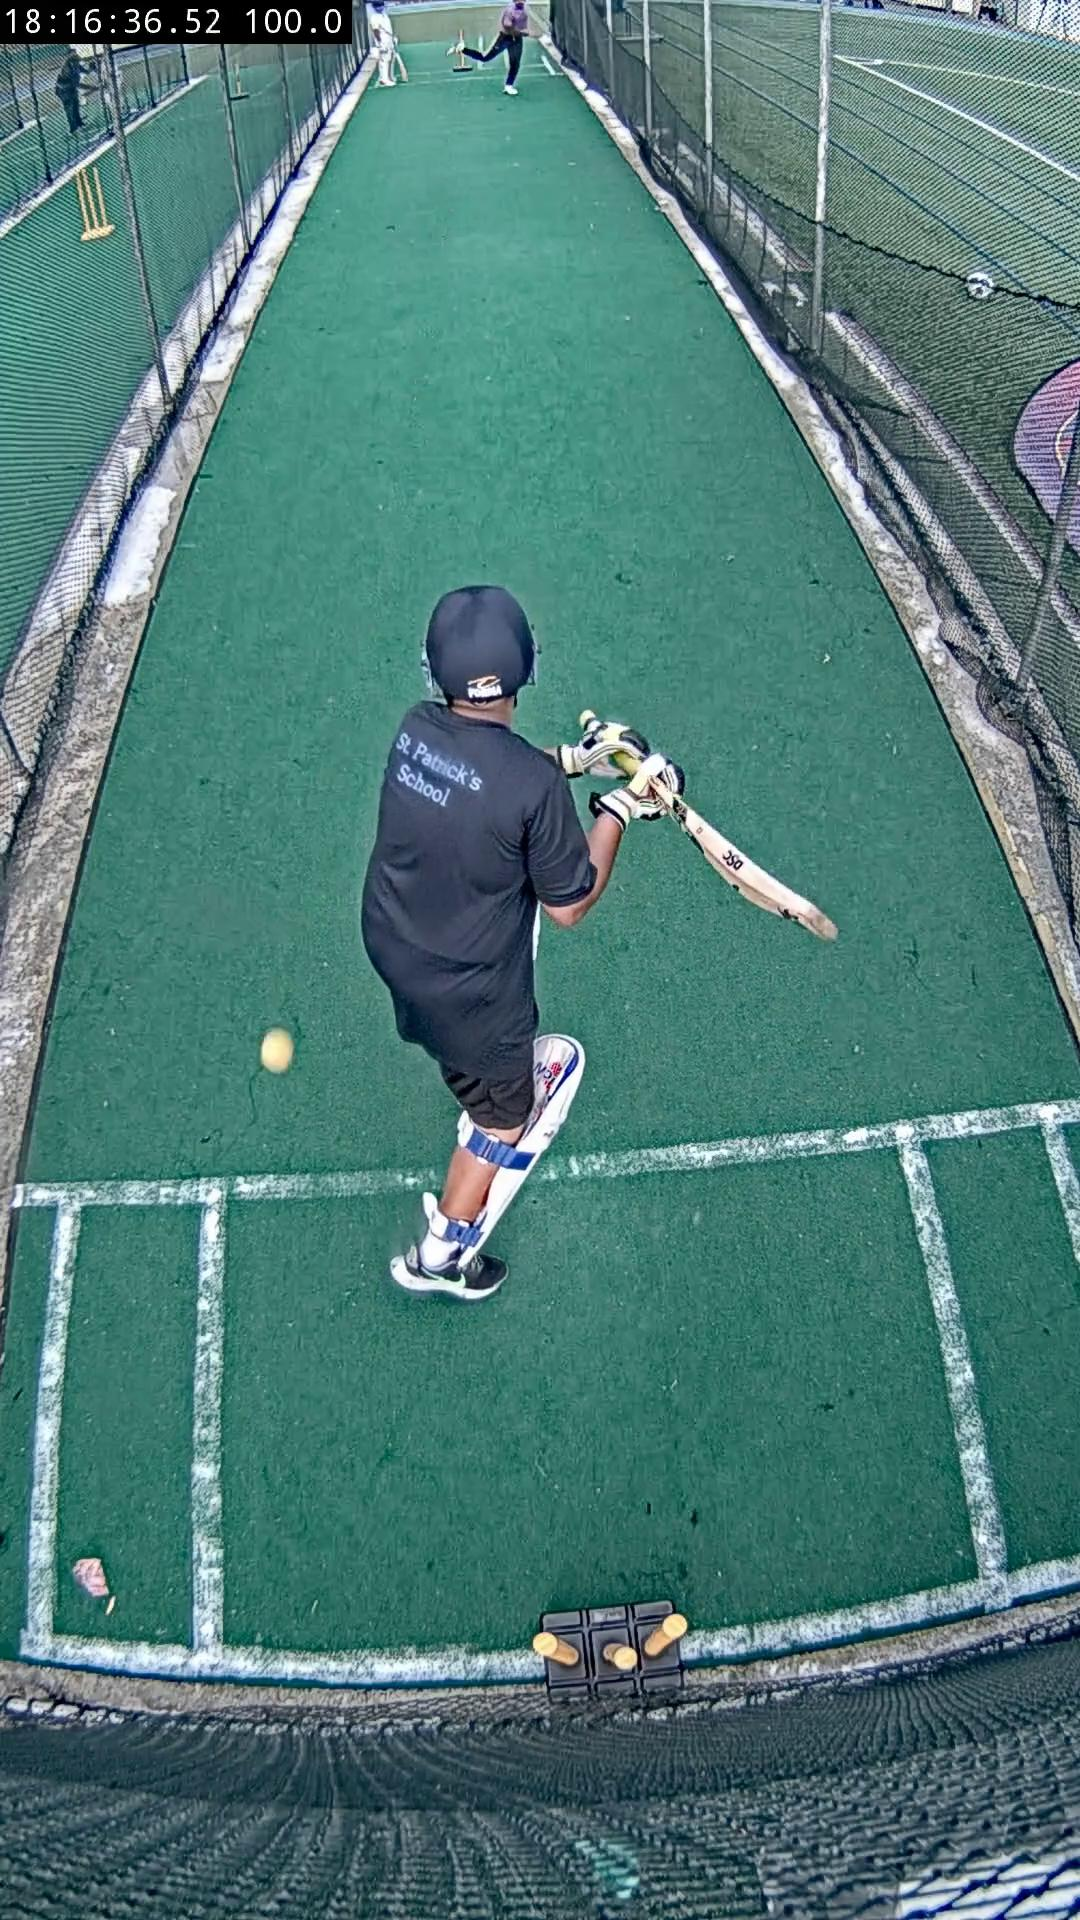ball: (258, 1027, 293, 1072)
bat: (671, 799, 836, 942)
gloves: (588, 754, 686, 825), (555, 716, 649, 777)
helmet: (423, 585, 537, 702)
pads: (423, 1035, 585, 1273)
stumps: (533, 1601, 686, 1698)
